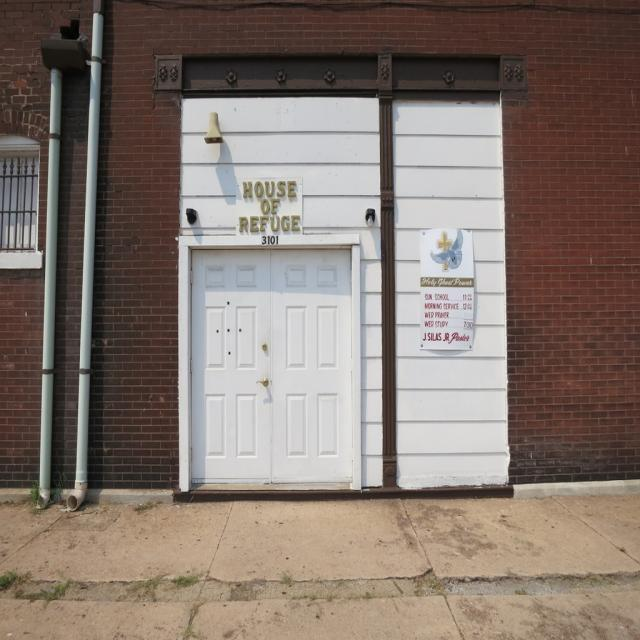door: (178, 238, 360, 491)
